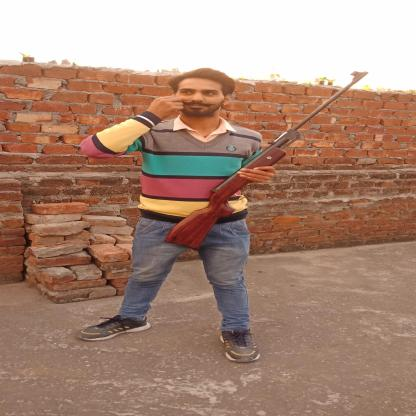rifle: (161, 70, 371, 252)
